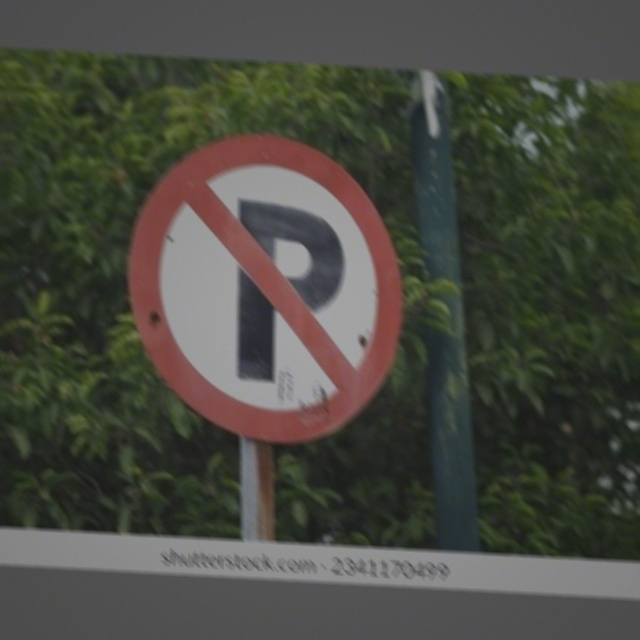No_Parking: (122, 122, 408, 445)
